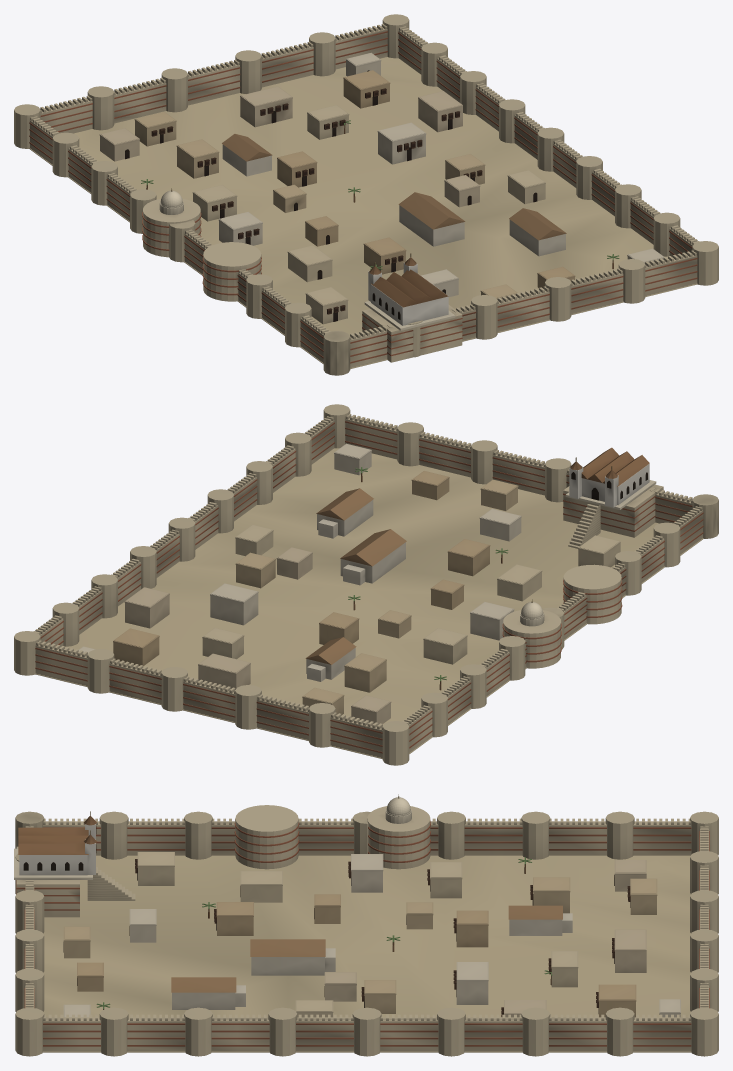
Rendered from babylon.glb.
3 renders of one model, top to bottom at view 1: azimuth 30°, elevation 25°; view 2: azimuth 150°, elevation 25°; view 3: azimuth 270°, elevation 25°, orthographic. The views are drawn at different scales.
Parts seen in each view (by area): view 1: p0_ground, p1_walls, p3_churches, p2_towers; view 2: p0_ground, p1_walls, p3_churches, p2_towers; view 3: p0_ground, p1_walls, p3_churches, p2_towers.
Boxes of the visible parts, <box> form: p0_ground: <box>29,57,697,368</box>; p1_walls: <box>14,14,718,375</box>; p3_churches: <box>99,52,664,330</box>; p2_towers: <box>142,188,462,362</box>; p0_ground: <box>35,448,703,758</box>; p1_walls: <box>14,404,718,765</box>; p3_churches: <box>78,443,656,724</box>; p2_towers: <box>502,484,663,668</box>; p0_ground: <box>43,855,691,1052</box>; p1_walls: <box>15,811,718,1056</box>; p3_churches: <box>14,811,680,1017</box>; p2_towers: <box>16,794,430,917</box>.
Size of the model in its own units: 192 by 32.6 by 268.
